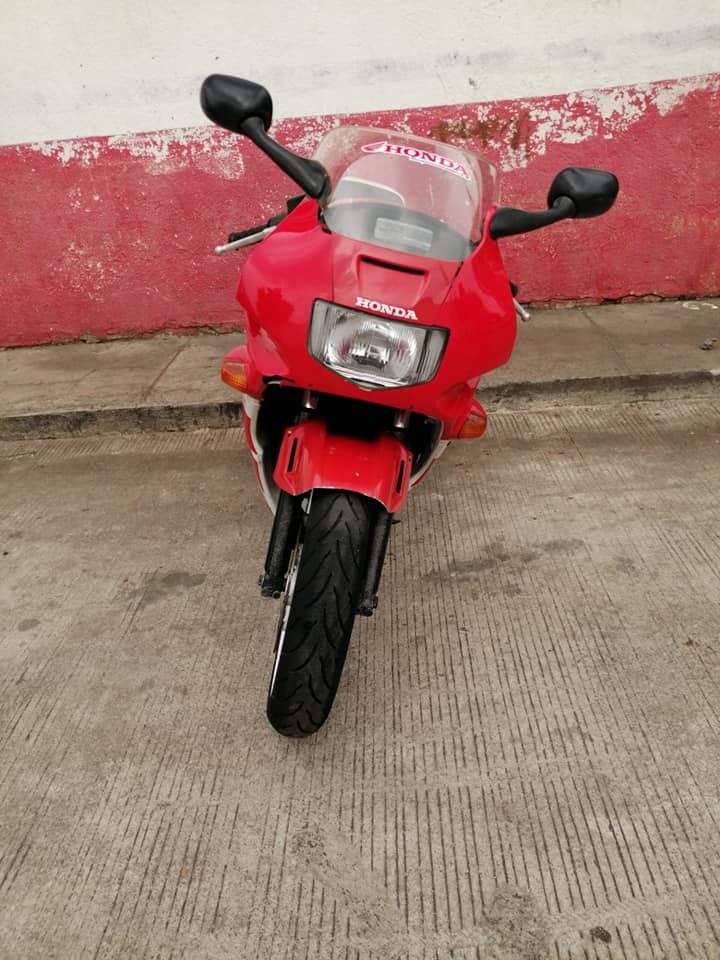moto: (173, 68, 619, 756)
